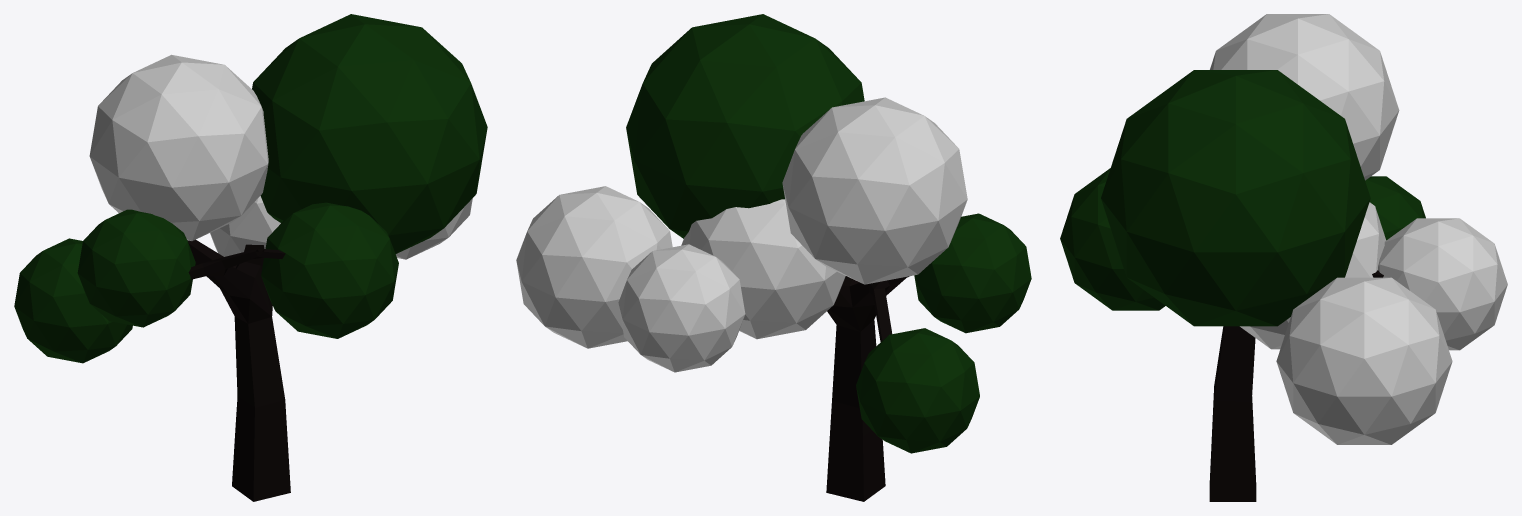
Rendered from TestTree.obj.
The picture shows the model from 3 angles, left to right: view 1: azimuth 30°, elevation 25°; view 2: azimuth 150°, elevation 25°; view 3: azimuth 270°, elevation 25°; orthographic projection. The views are drawn at different scales.
Parts seen in each view (by area): view 1: Icosphere.002, Icosphere.004, Icosphere.006, Cube, Icosphere.005, Icosphere.003, Icosphere.008, Icosphere.001; view 2: Icosphere.002, Icosphere.004, Icosphere.001, Icosphere.007, Icosphere.008, Icosphere.003, Cube, Icosphere.005; view 3: Icosphere.002, Icosphere.001, Icosphere.004, Icosphere.007, Cube, Icosphere.006, Icosphere.008, Icosphere.003.
Part boxes in pixels (left/top/right/bottom): Icosphere.002: left=252, top=14, right=487, bottom=253; Icosphere.004: left=89, top=54, right=268, bottom=240; Icosphere.006: left=261, top=202, right=398, bottom=338; Cube: left=187, top=239, right=290, bottom=501; Icosphere.005: left=77, top=209, right=195, bottom=327; Icosphere.003: left=14, top=238, right=132, bottom=363; Icosphere.008: left=210, top=196, right=280, bottom=256; Icosphere.001: left=396, top=198, right=472, bottom=259; Icosphere.002: left=626, top=14, right=864, bottom=238; Icosphere.004: left=782, top=97, right=967, bottom=284; Icosphere.001: left=516, top=186, right=672, bottom=348; Icosphere.007: left=618, top=244, right=745, bottom=372; Icosphere.008: left=681, top=199, right=845, bottom=339; Icosphere.003: left=856, top=328, right=979, bottom=453; Cube: left=826, top=276, right=909, bottom=501; Icosphere.005: left=914, top=213, right=1031, bottom=333; Icosphere.002: left=1101, top=70, right=1370, bottom=326; Icosphere.001: left=1276, top=277, right=1452, bottom=444; Icosphere.004: left=1210, top=14, right=1399, bottom=180; Icosphere.007: left=1378, top=218, right=1507, bottom=350; Cube: left=1209, top=270, right=1383, bottom=501; Icosphere.006: left=1060, top=168, right=1165, bottom=310; Icosphere.008: left=1240, top=202, right=1386, bottom=349; Icosphere.003: left=1365, top=176, right=1425, bottom=240.
Bounding box in the file's own units: 5.39 × 5.13 × 4.42.
